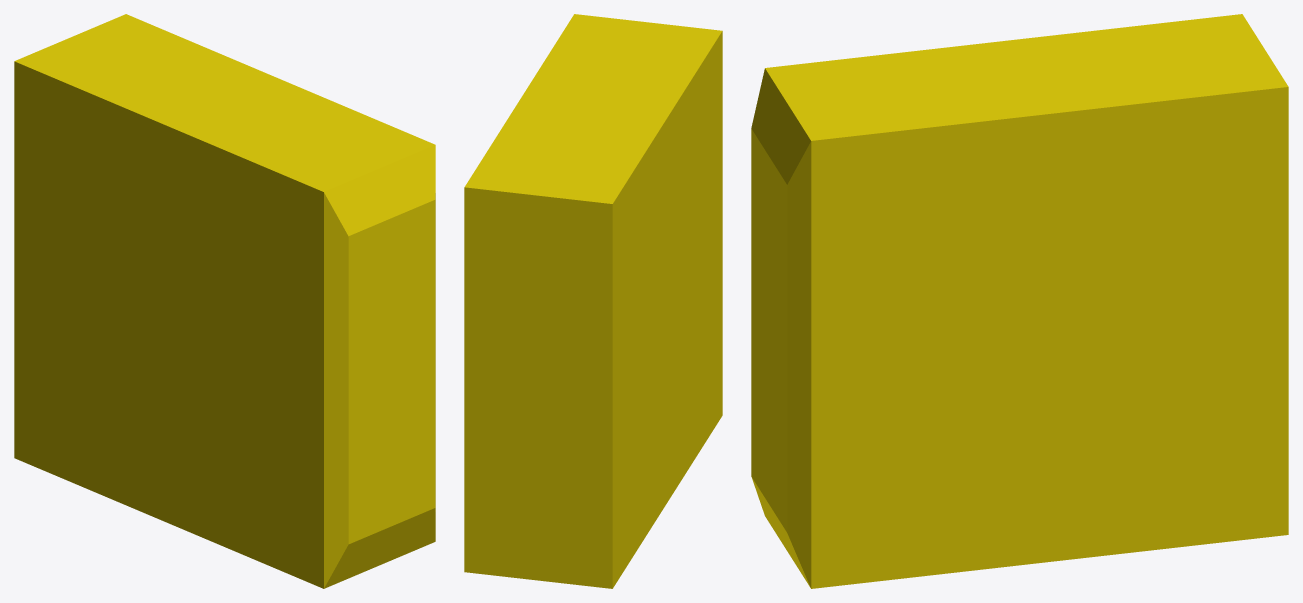
Rendered from computer.fbx.
3 views of the same model, side by side, from view 1: azimuth 30°, elevation 25°; view 2: azimuth 150°, elevation 25°; view 3: azimuth 270°, elevation 25° (orthographic). The views are drawn at different scales.
Visible parts, largest first — view 1: computer; view 2: computer; view 3: computer.
Part boxes in pixels (box(x1,y1,x2,y2)): computer: box(14, 14, 435, 588); computer: box(464, 14, 722, 588); computer: box(751, 14, 1288, 588).
Size of the model in its own units: 0.6079 by 1 by 1.09.
